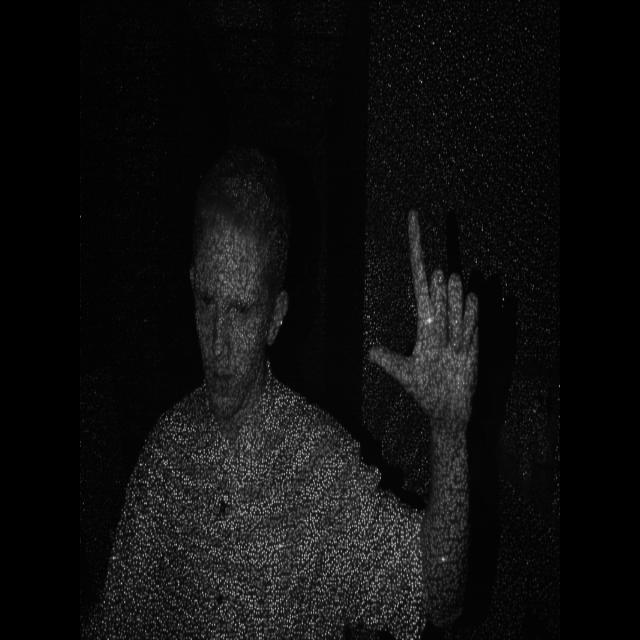L: (355, 184, 482, 445)
